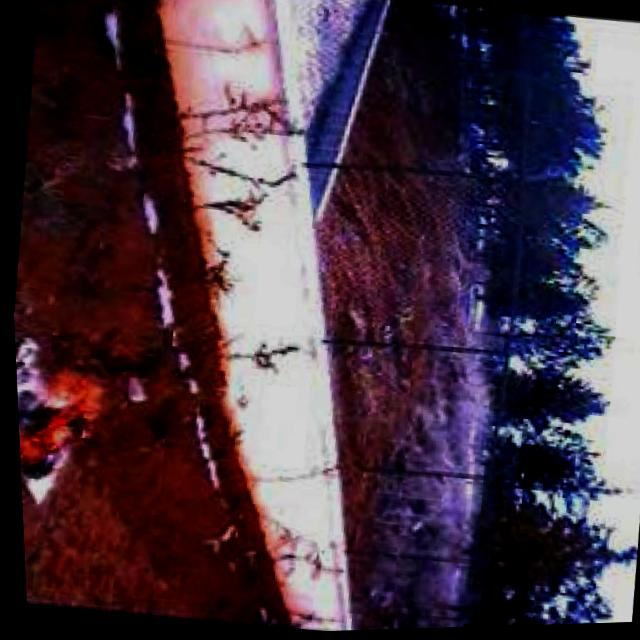helmet: (12, 343, 111, 490)
